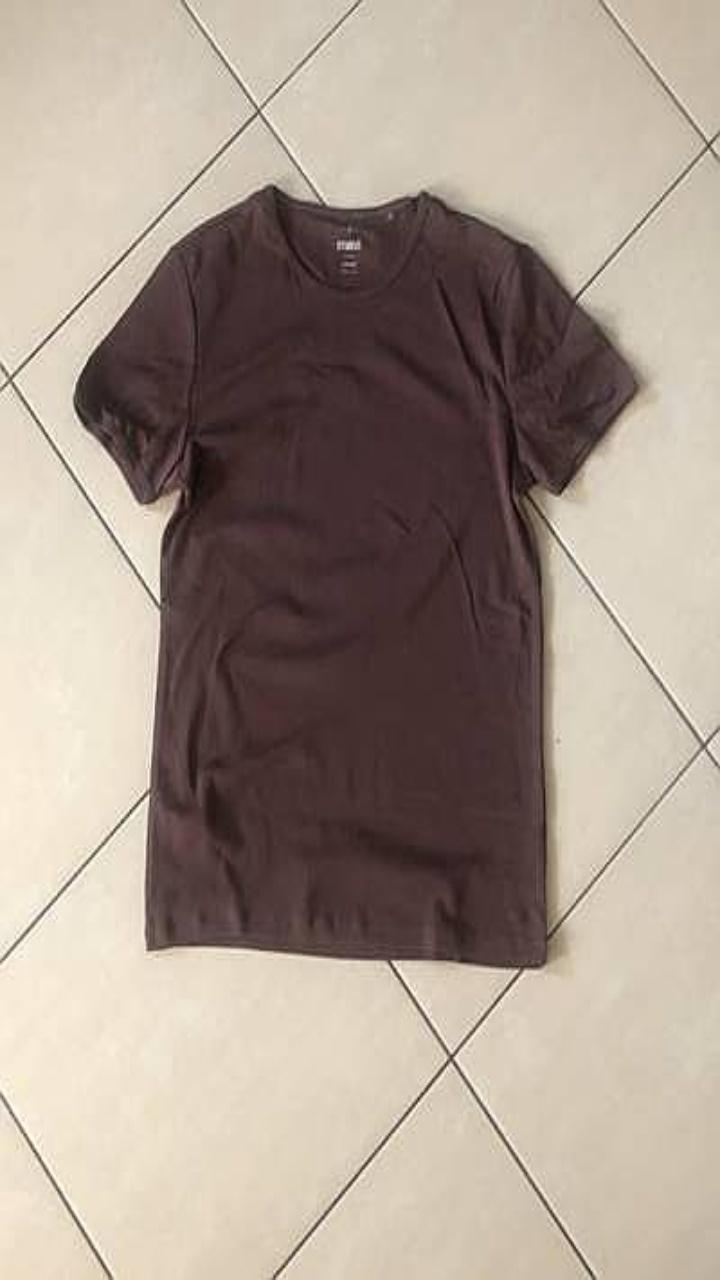T-Shirt: (74, 183, 637, 966)
